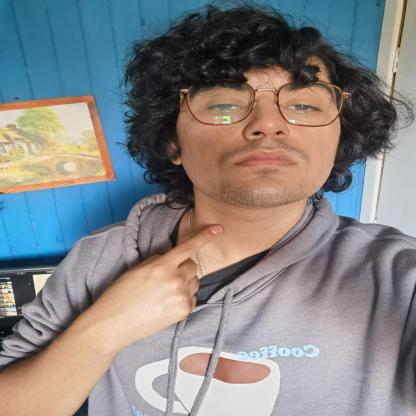Q: (102, 223, 226, 330)
